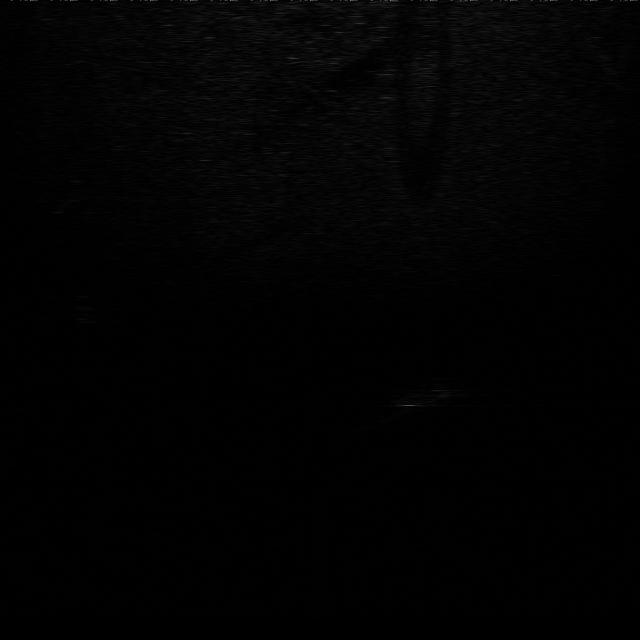tyre: (382, 367, 462, 413)
